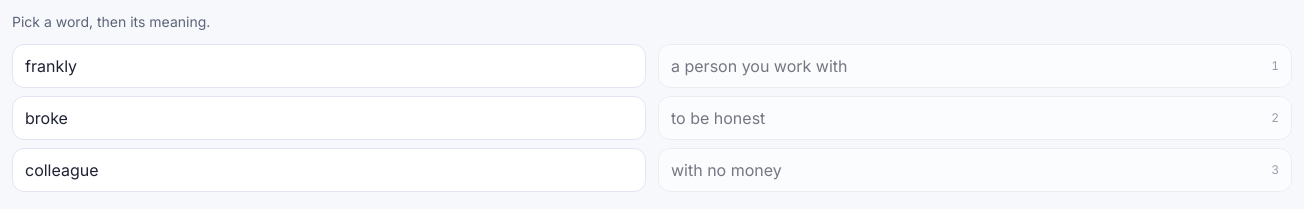
Test: MatchCard › shows an instruction that updates once a word is picked
Expected: the text "Pick a word, then its meaning." is shown, [12,13,210,30]
Step 1. Click the button "frankly" → (51, 66), box [12,44,646,88]
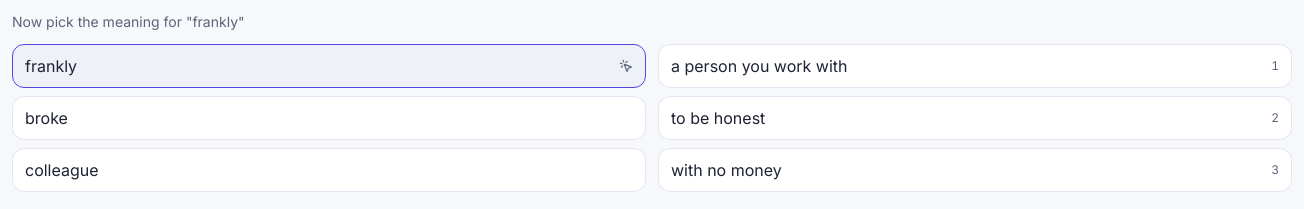
Result: the text "Now pick the meaning for \"frankly\"" is shown at [12,13,244,30]
